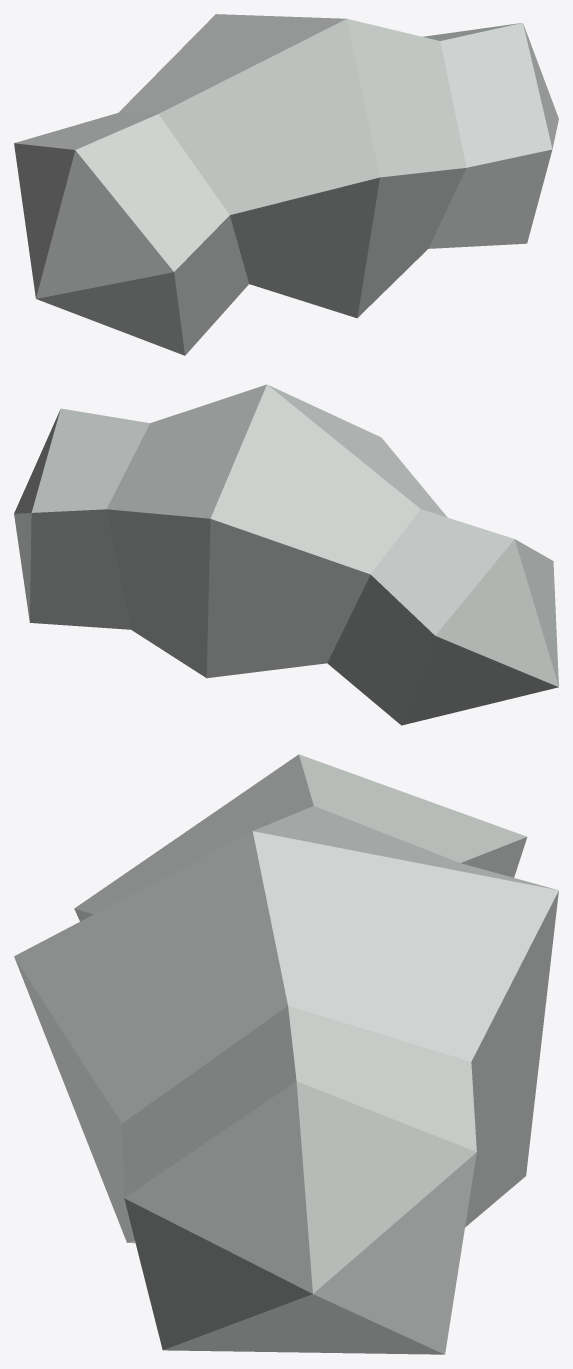
The model's file is SM_Env_Generic_Cloud_01.glb.
The picture shows the model from 3 angles, top to bottom: view 1: azimuth 30°, elevation 25°; view 2: azimuth 150°, elevation 25°; view 3: azimuth 270°, elevation 25°; orthographic projection. The views are drawn at different scales.
Parts seen in each view (by area): view 1: SM_Env_Generic_Cloud_01; view 2: SM_Env_Generic_Cloud_01; view 3: SM_Env_Generic_Cloud_01.
Part boxes in pixels (x1,y1,x2,y2): SM_Env_Generic_Cloud_01: (14,14,558,355); SM_Env_Generic_Cloud_01: (14,384,558,725); SM_Env_Generic_Cloud_01: (14,754,558,1354).
Bounding box in the file's own units: 2.82 × 1.4 × 1.53.
1 material, 1 textured.
